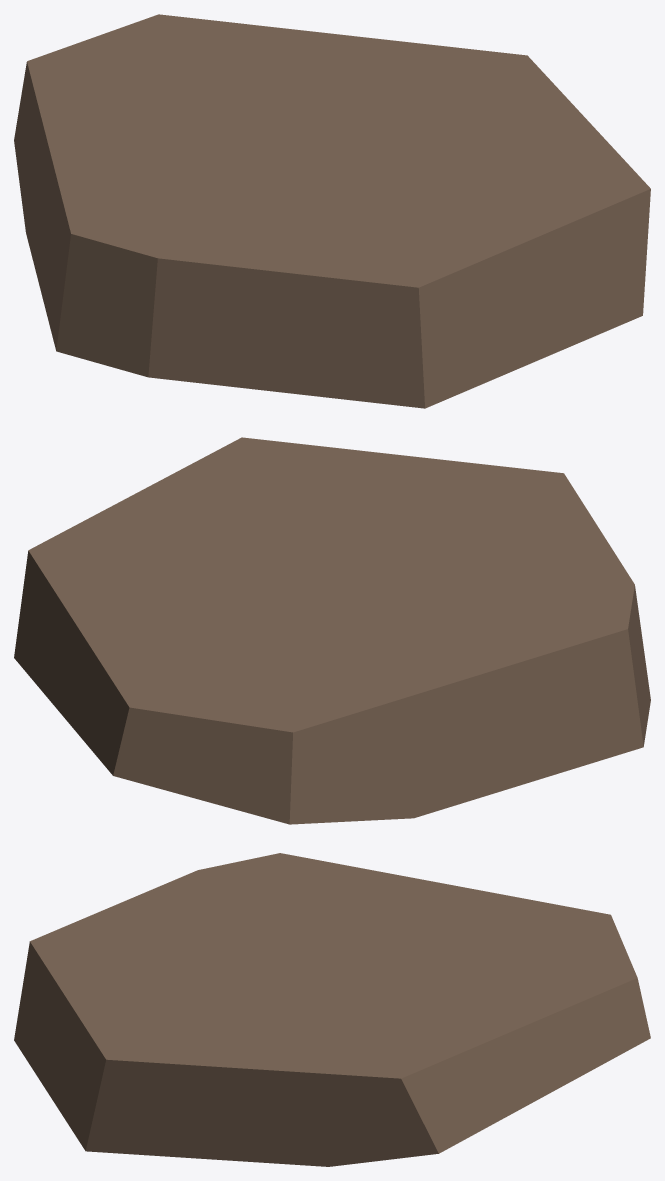
The model's file is SteppingStone1.fbx.
3 views of the same model, one above another, from view 1: azimuth 30°, elevation 25°; view 2: azimuth 150°, elevation 25°; view 3: azimuth 270°, elevation 25° (orthographic). The views are drawn at different scales.
Visible parts, largest first — view 1: SteppingStone1; view 2: SteppingStone1; view 3: SteppingStone1.
Part boxes in pixels (x1,y1,x2,y2): SteppingStone1: (14,14,650,408); SteppingStone1: (14,437,650,824); SteppingStone1: (14,853,650,1166).
Size of the model in its own units: 35.09 by 7.06 by 40.69.
